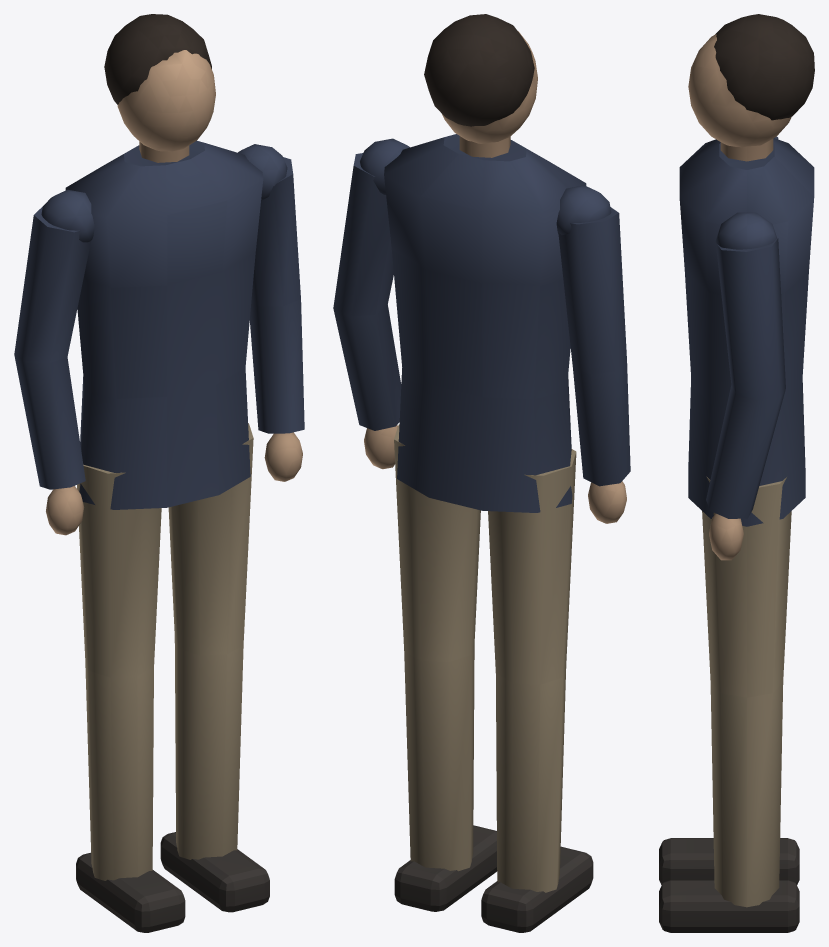
The model's file is people_pedestrian_01.glb.
The picture shows the model from 3 angles, left to right: view 1: azimuth 30°, elevation 25°; view 2: azimuth 150°, elevation 25°; view 3: azimuth 270°, elevation 25°; orthographic projection. The views are drawn at different scales.
Parts seen in each view (by area): view 1: people_pedestrian_01; view 2: people_pedestrian_01; view 3: people_pedestrian_01.
Part boxes in pixels (x1,y1,x2,y2): people_pedestrian_01: (14, 14, 304, 932); people_pedestrian_01: (333, 14, 630, 932); people_pedestrian_01: (659, 14, 814, 932).
Bounding box in the file's own units: 0.5614 × 1.67 × 0.2662.
